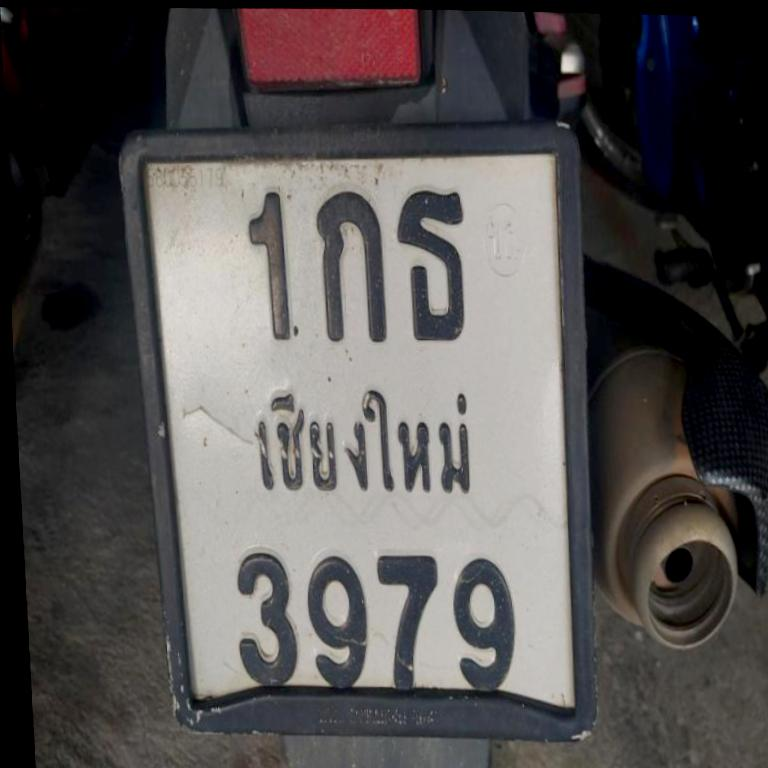license plate: (119, 120, 595, 740)
